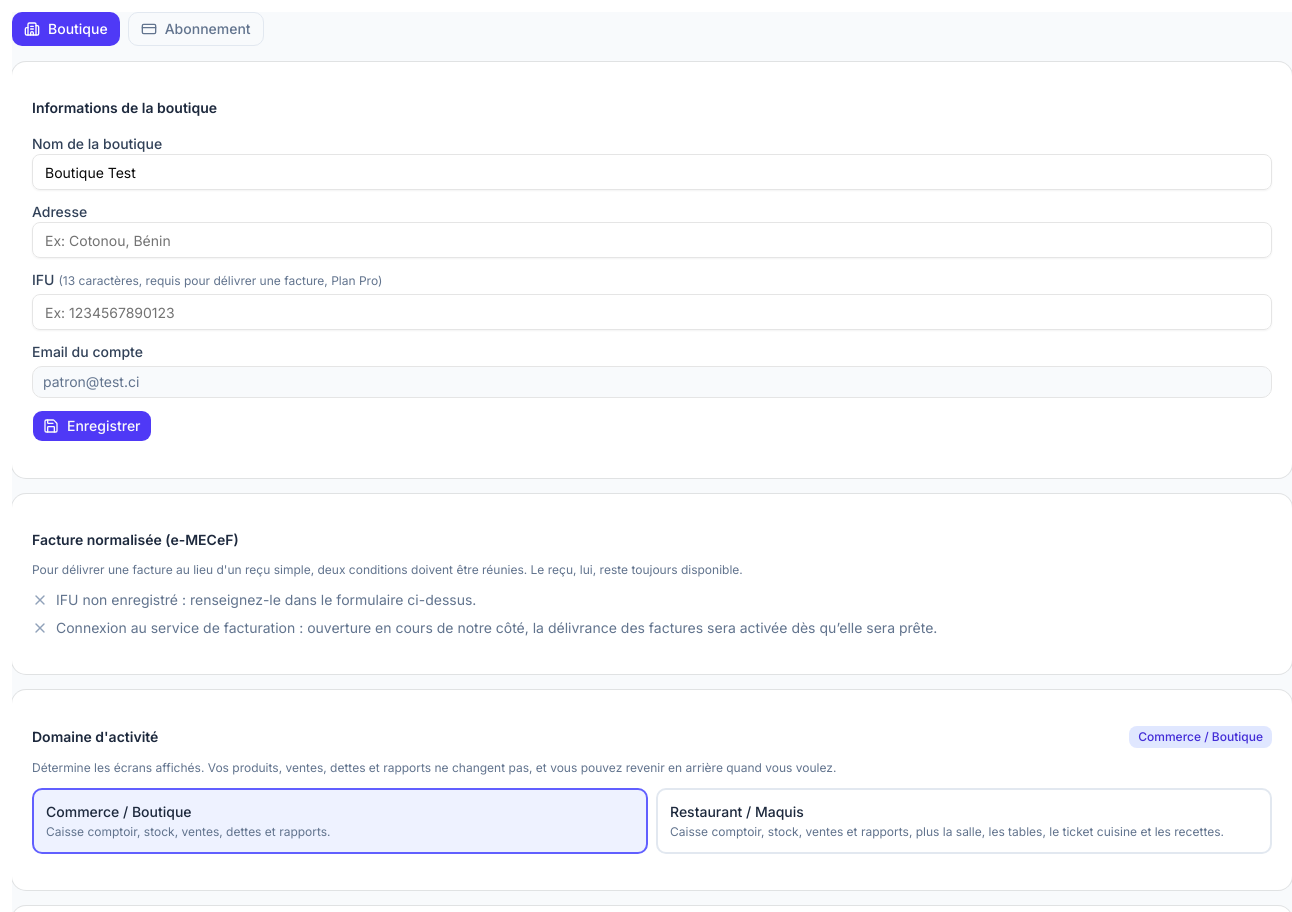
Test: Essai de 14 jours — carte d’abonnement › en cours : la date de fin et le compte à rebours, sans bouton
What coordinates should you click on to do the following:
click the tab "Abonnement"
I would click on:
 (196, 29)
Its box is [128,12,264,46].
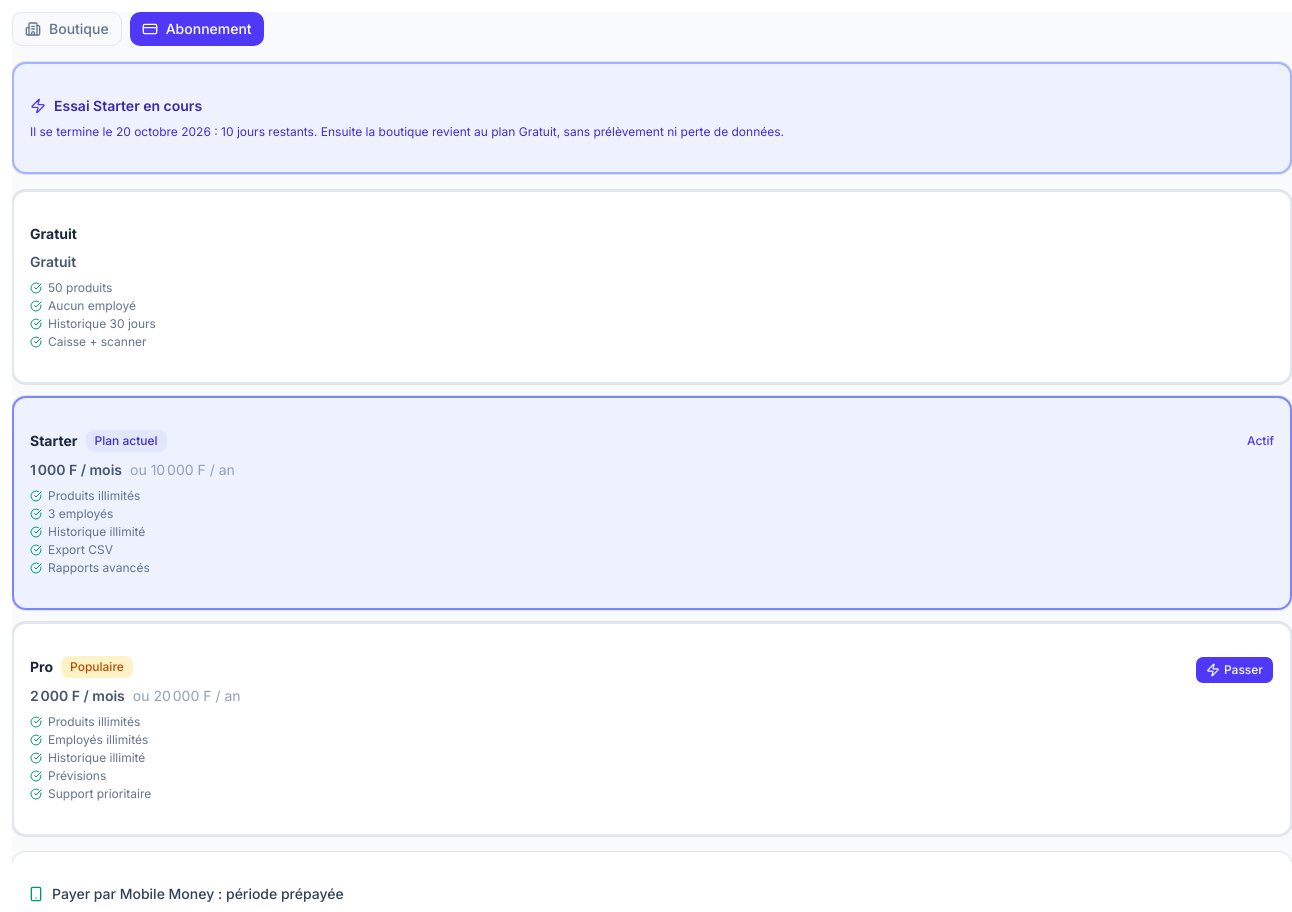
expect the text "Essai Starter en cours" is shown: met, box [54,96,202,116]
expect the text "se termine le" is shown: met, box [30,124,112,139]
expect the text "jours restants" is shown: met, box [211,124,314,139]
